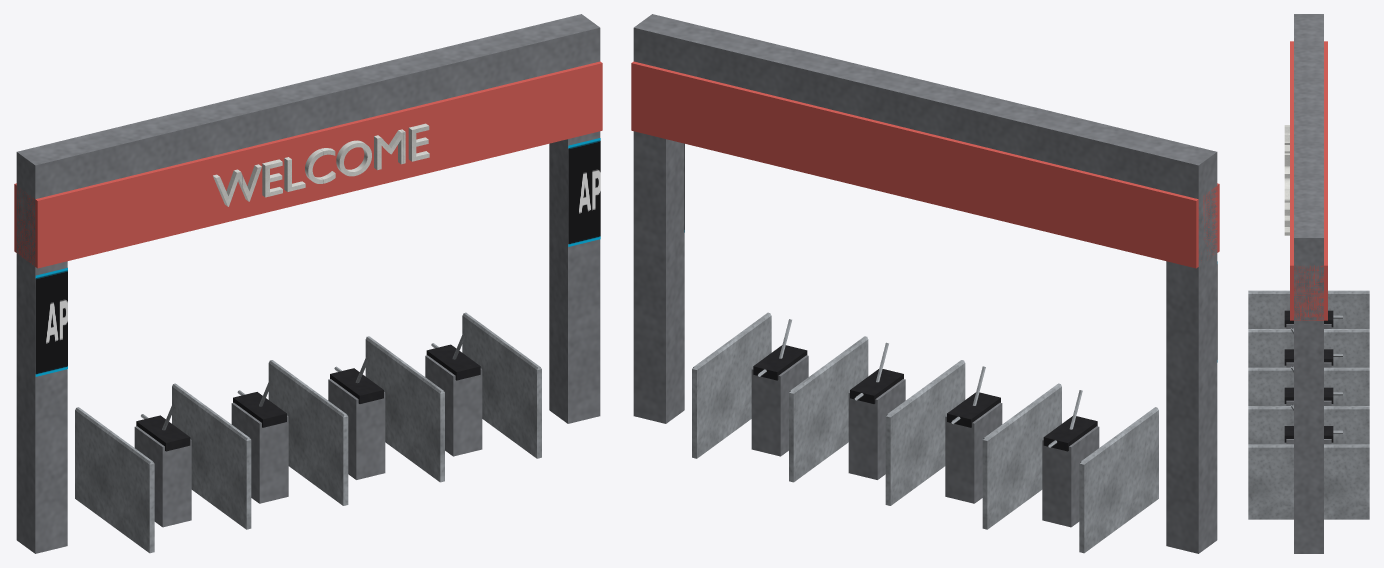
File: ticket_gate.glb
3 renders of one model, left to right at view 1: azimuth 30°, elevation 25°; view 2: azimuth 150°, elevation 25°; view 3: azimuth 270°, elevation 25°, orthographic. The views are drawn at different scales.
Parts seen in each view (by area): view 1: ticket_gate; view 2: ticket_gate; view 3: ticket_gate.
Part boxes in pixels (<box>): ticket_gate: <box>14,14,602,553</box>; ticket_gate: <box>631,14,1219,553</box>; ticket_gate: <box>1248,14,1369,553</box>.
Size of the model in its own units: 7 by 4.6 by 1.6.
6 materials, 5 textured.
